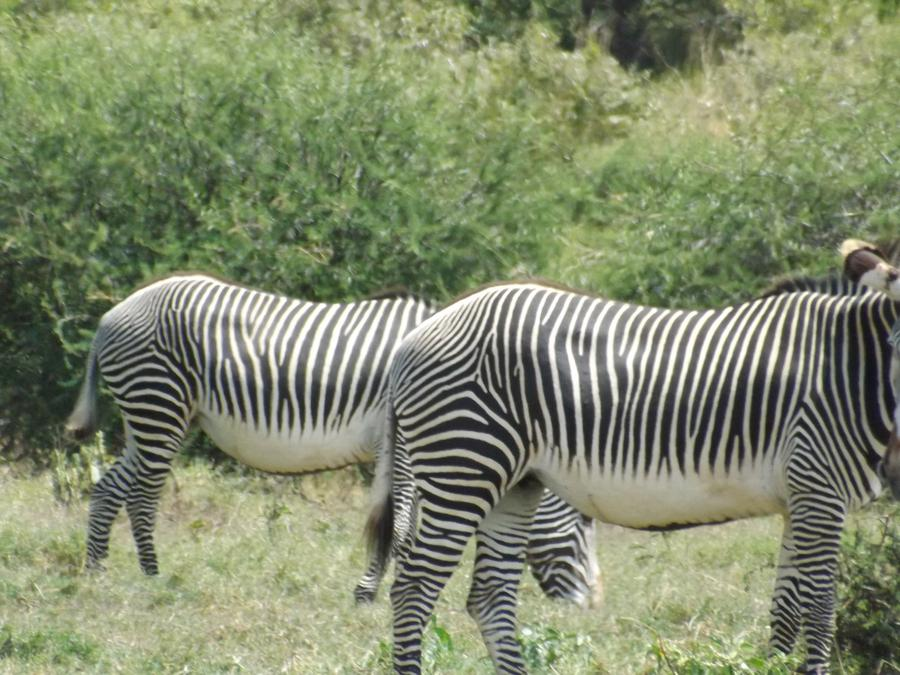zebra_grevys: (384, 268, 853, 519)
